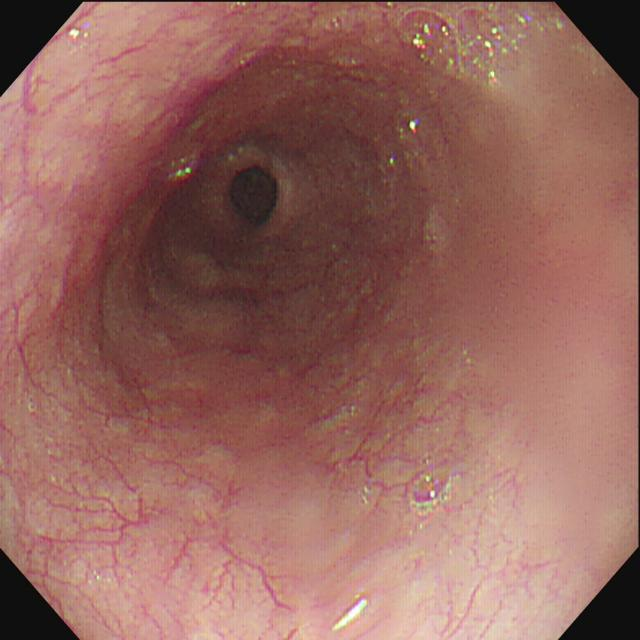E: (192, 129, 313, 252)
T: (395, 2, 543, 86), (407, 467, 459, 522)
U: (334, 598, 373, 631), (66, 26, 96, 48)
